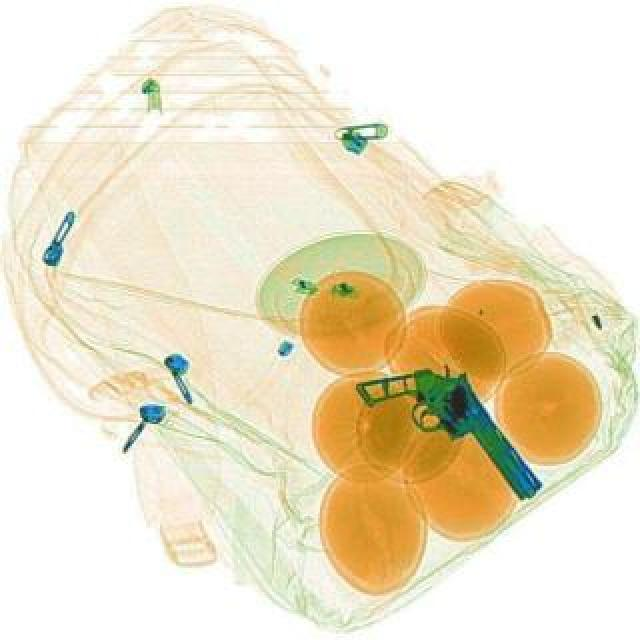gun: (356, 336, 550, 540)
